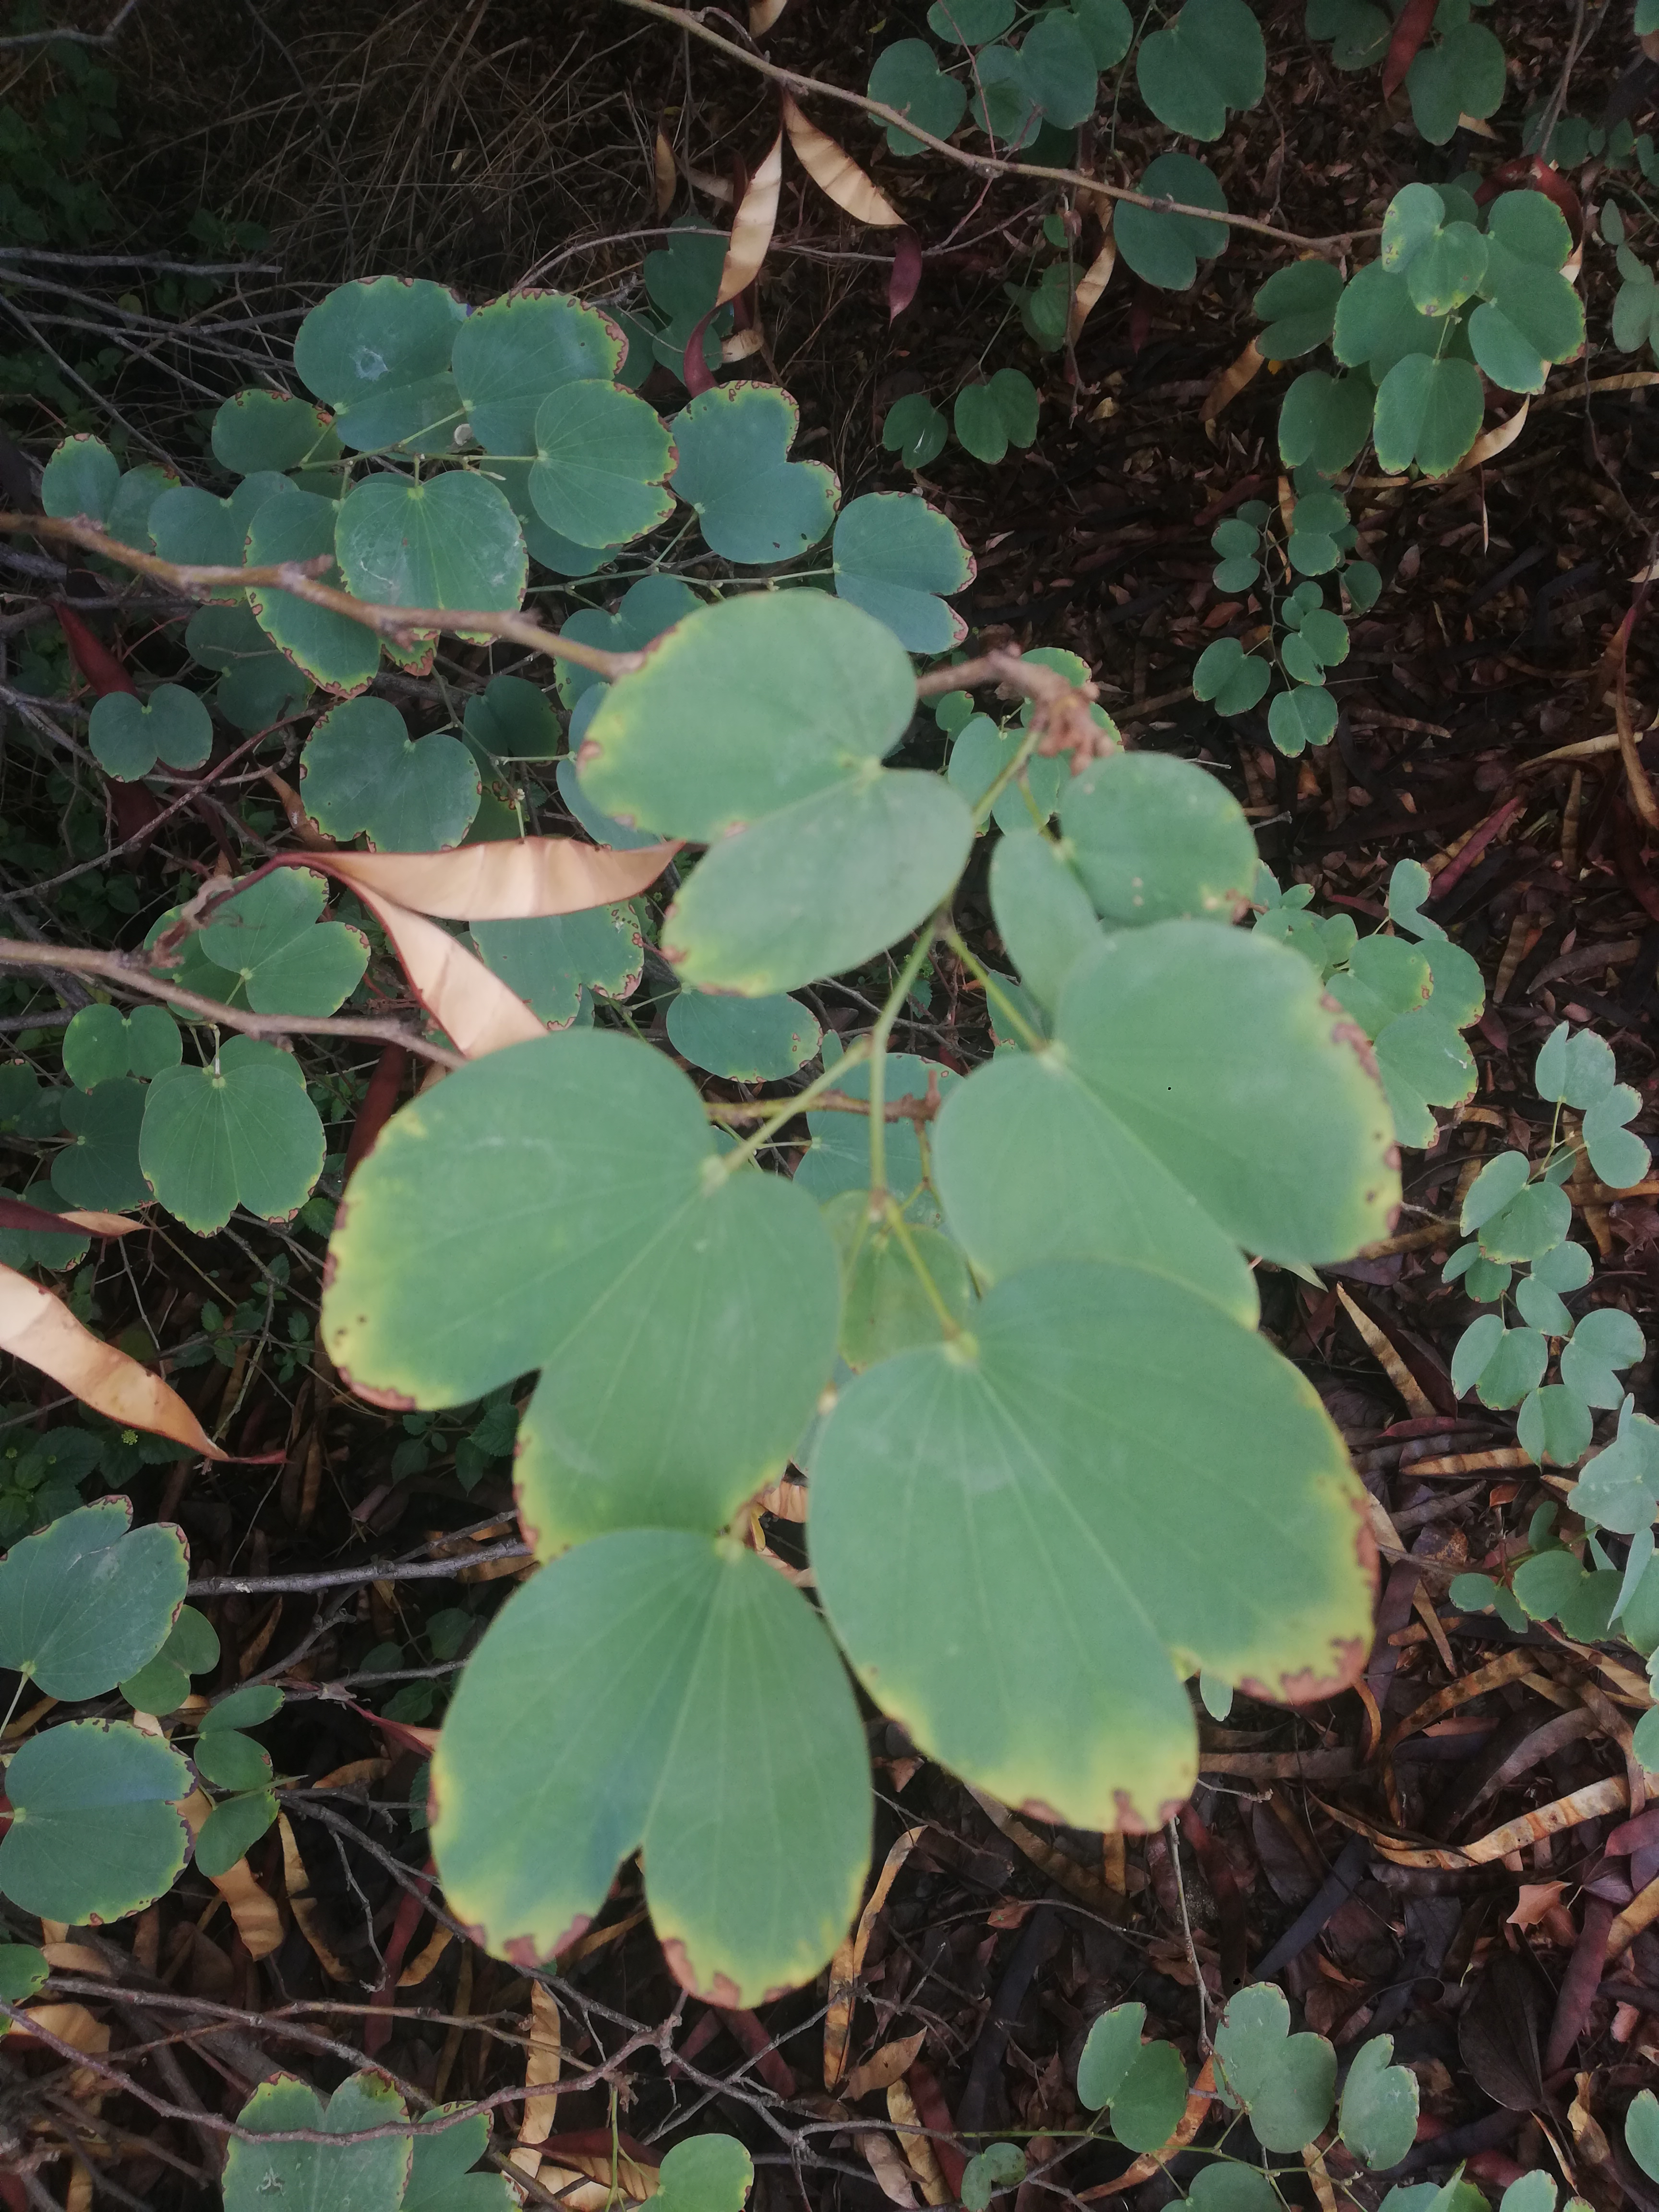nothealthy: (782, 1259, 1406, 1855), (317, 1024, 859, 1578), (369, 1519, 910, 2038), (924, 934, 1425, 1346), (565, 590, 988, 1024), (122, 1010, 331, 1258), (2, 1482, 223, 1710), (0, 1716, 204, 1919), (286, 261, 477, 465), (657, 376, 847, 578), (504, 387, 708, 571), (288, 686, 479, 859), (838, 486, 1000, 667)
